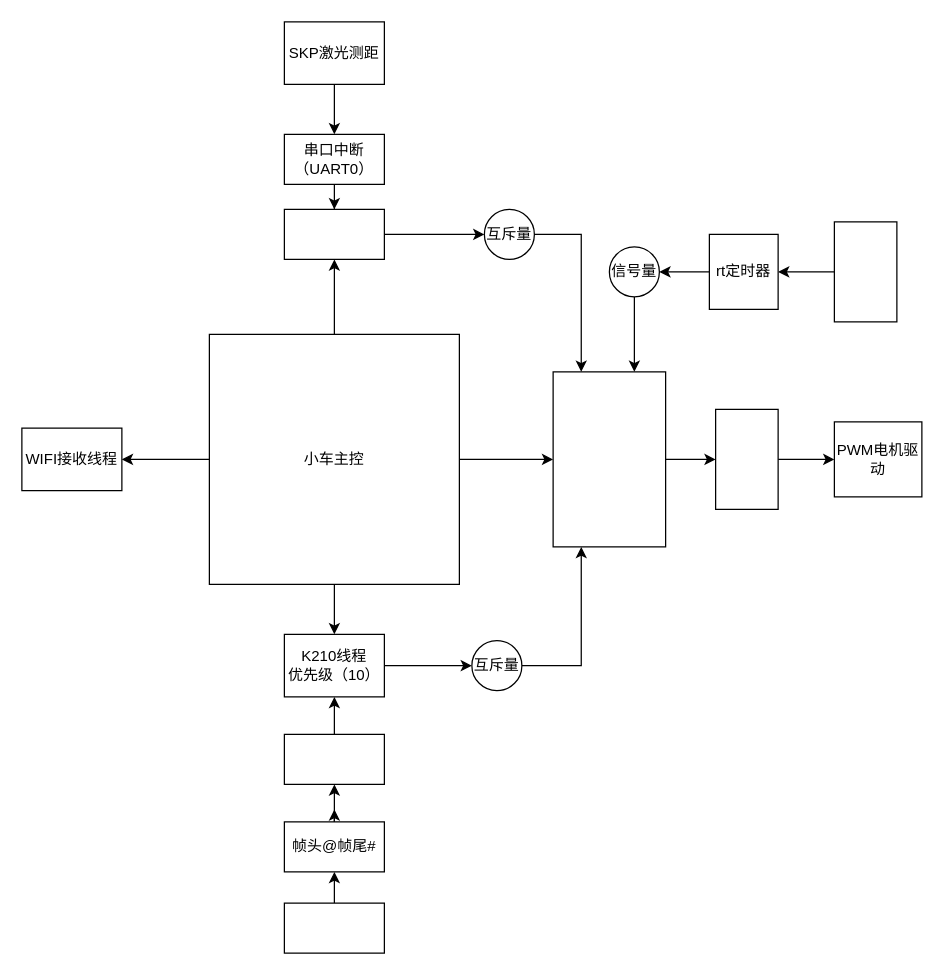
This 944x975 diagram has some shape labels left out. Here are the shapes that lost their labels. From the top down, the centre of each, then its label:
point 333,233: SKP激光测距线程优先级（10）
point 865,271: 编码器
point 609,459: 电机驱动线程 优先级（8）
point 746,458: PID闭环
point 333,758: 串口中断（UART3）
point 333,927: K210
